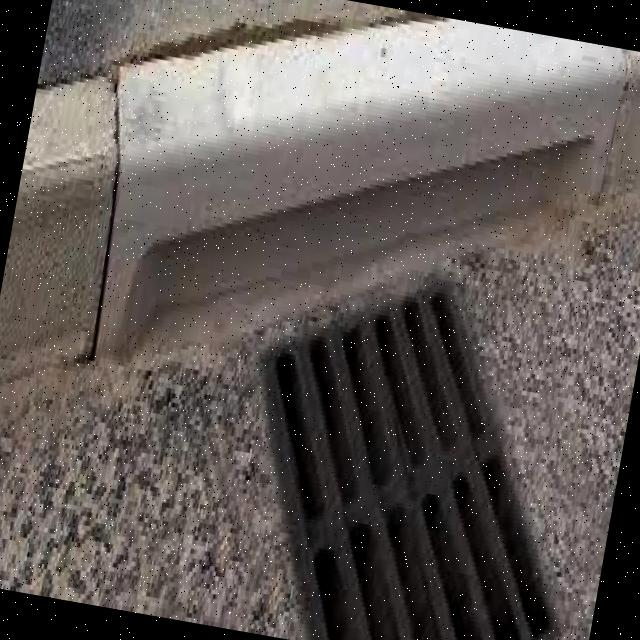curb: (1, 1, 368, 443), (321, 7, 640, 294)
